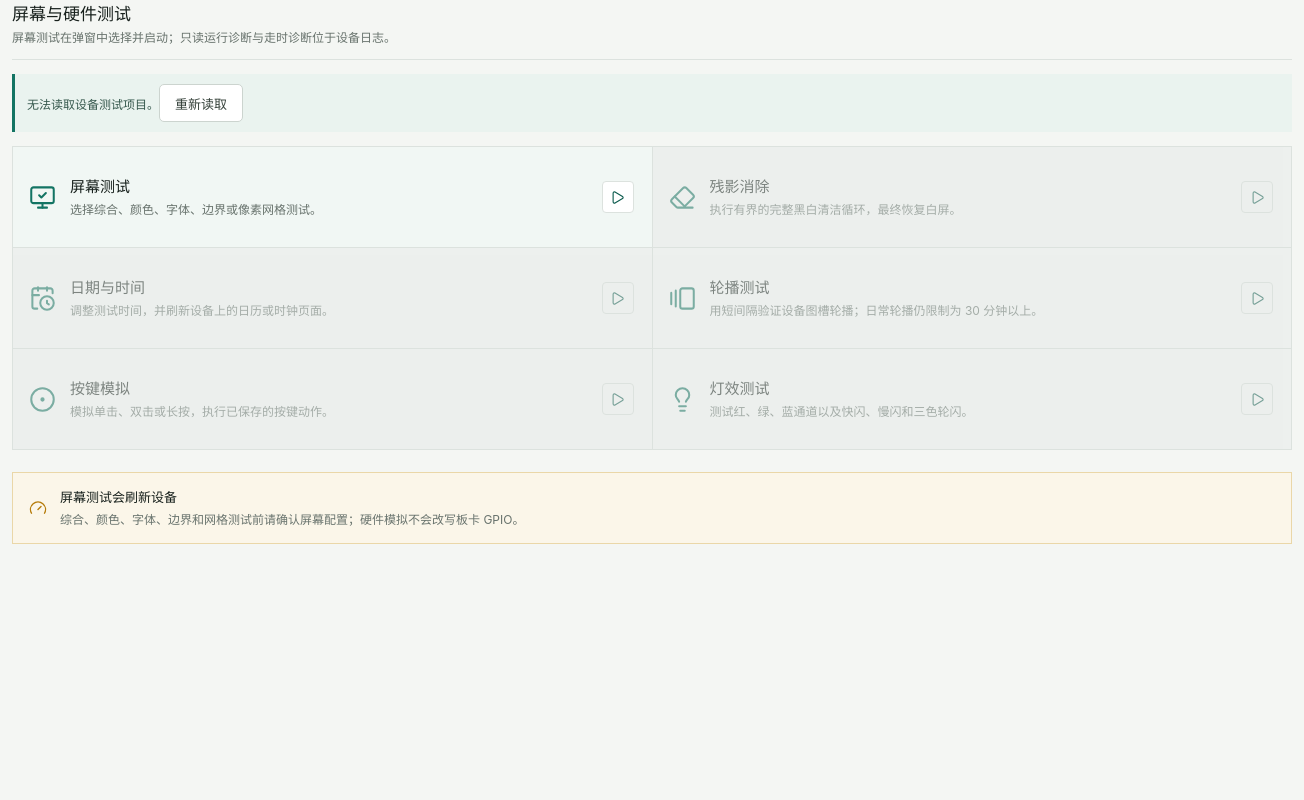
it: ignores an old device list and permits retry after a read failure
This screenshot has width=1304, height=800.
Expected: the button with class "test-card" showing "日期与时间 调整测试时间，并刷新设备上的日历或时钟页面。" is disabled, [13, 248, 652, 348]
Click the button "重新读取": [201, 103] box [159, 84, 243, 122]
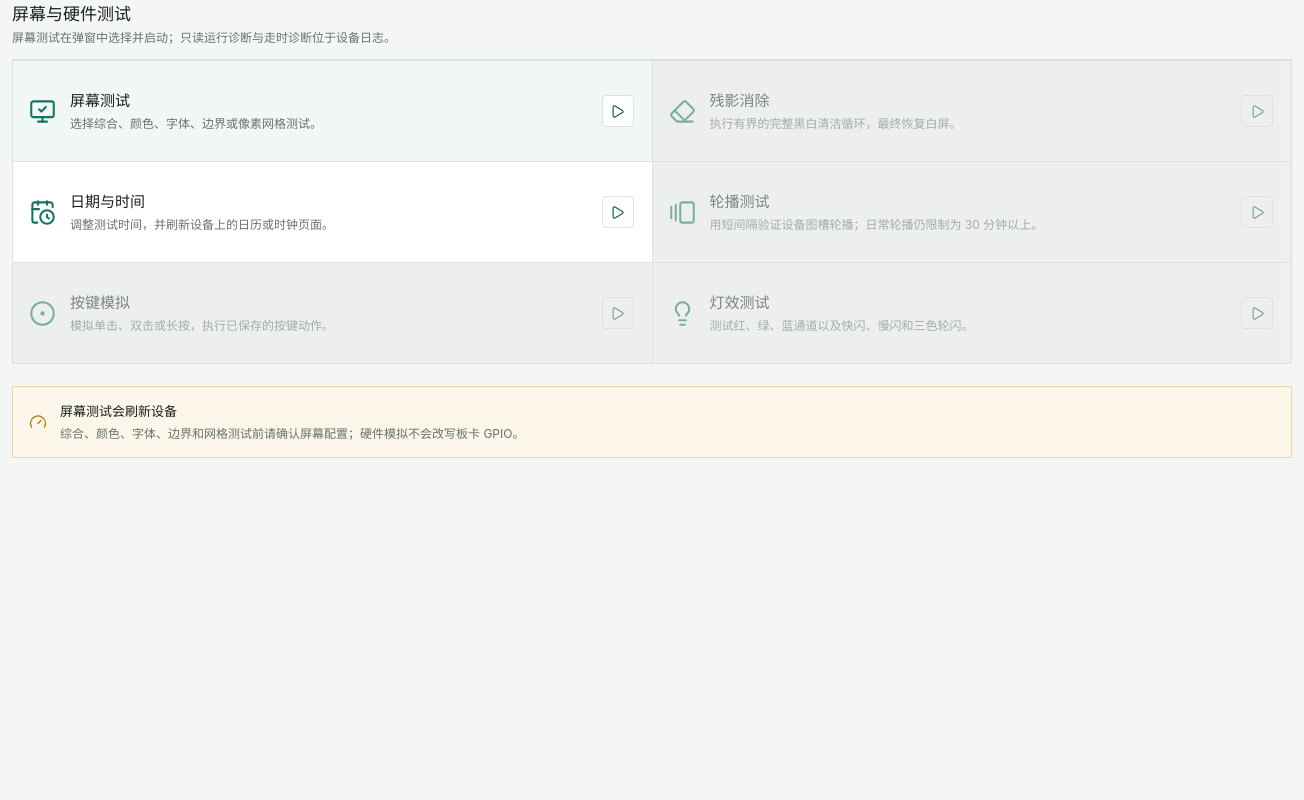
Now the button with class "test-card" showing "日期与时间 调整测试时间，并刷新设备上的日历或时钟页面。" is enabled, box [13, 162, 652, 262]
